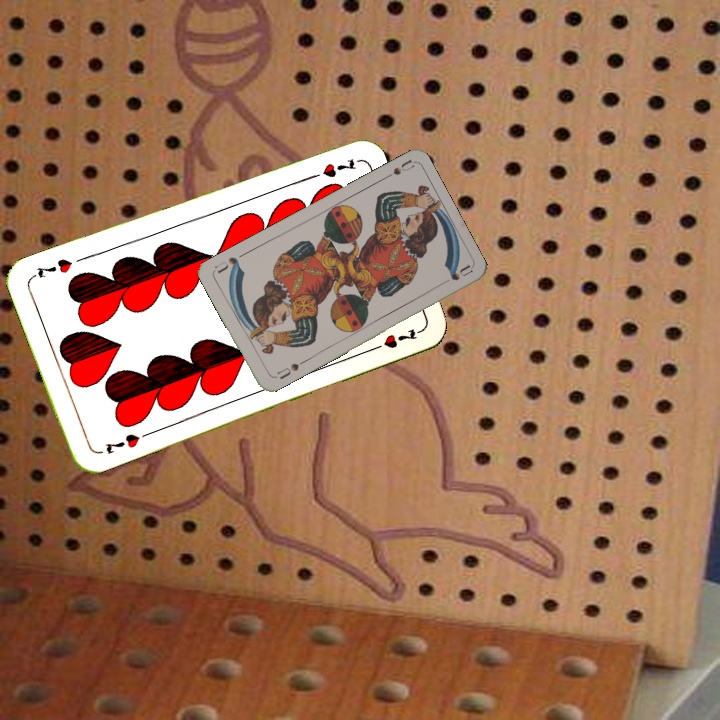H7: (302, 155, 359, 183), (101, 429, 142, 457)
SU: (377, 156, 416, 183), (273, 359, 302, 382)
